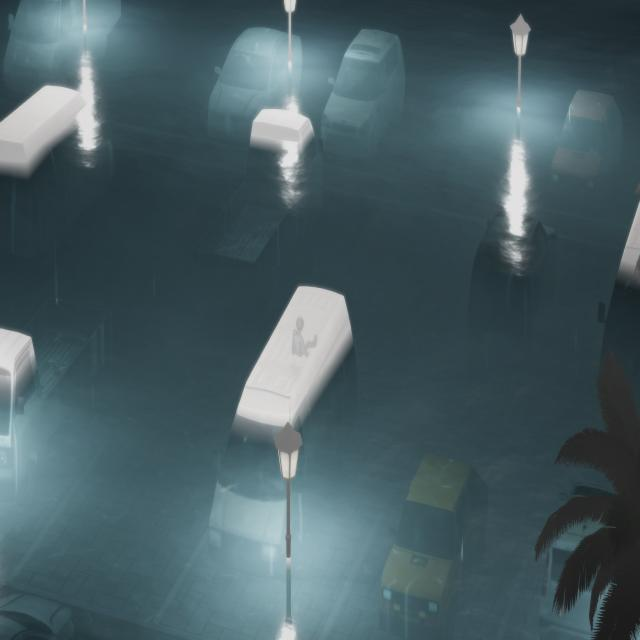Human: (288, 314, 324, 368)
